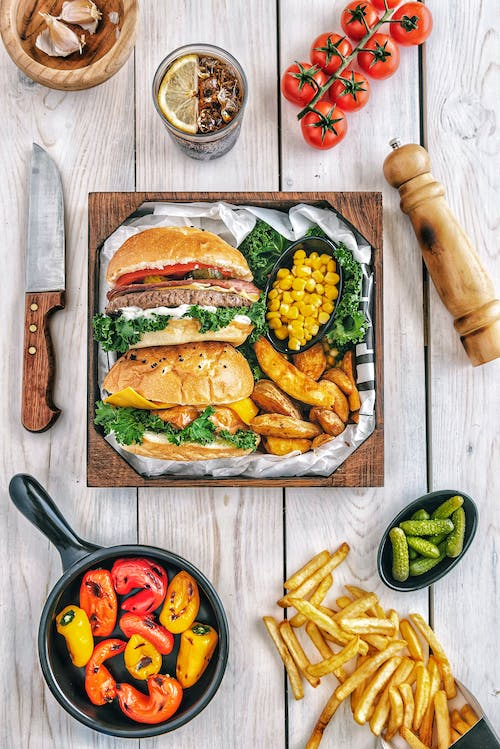knife: (18, 140, 71, 436)
